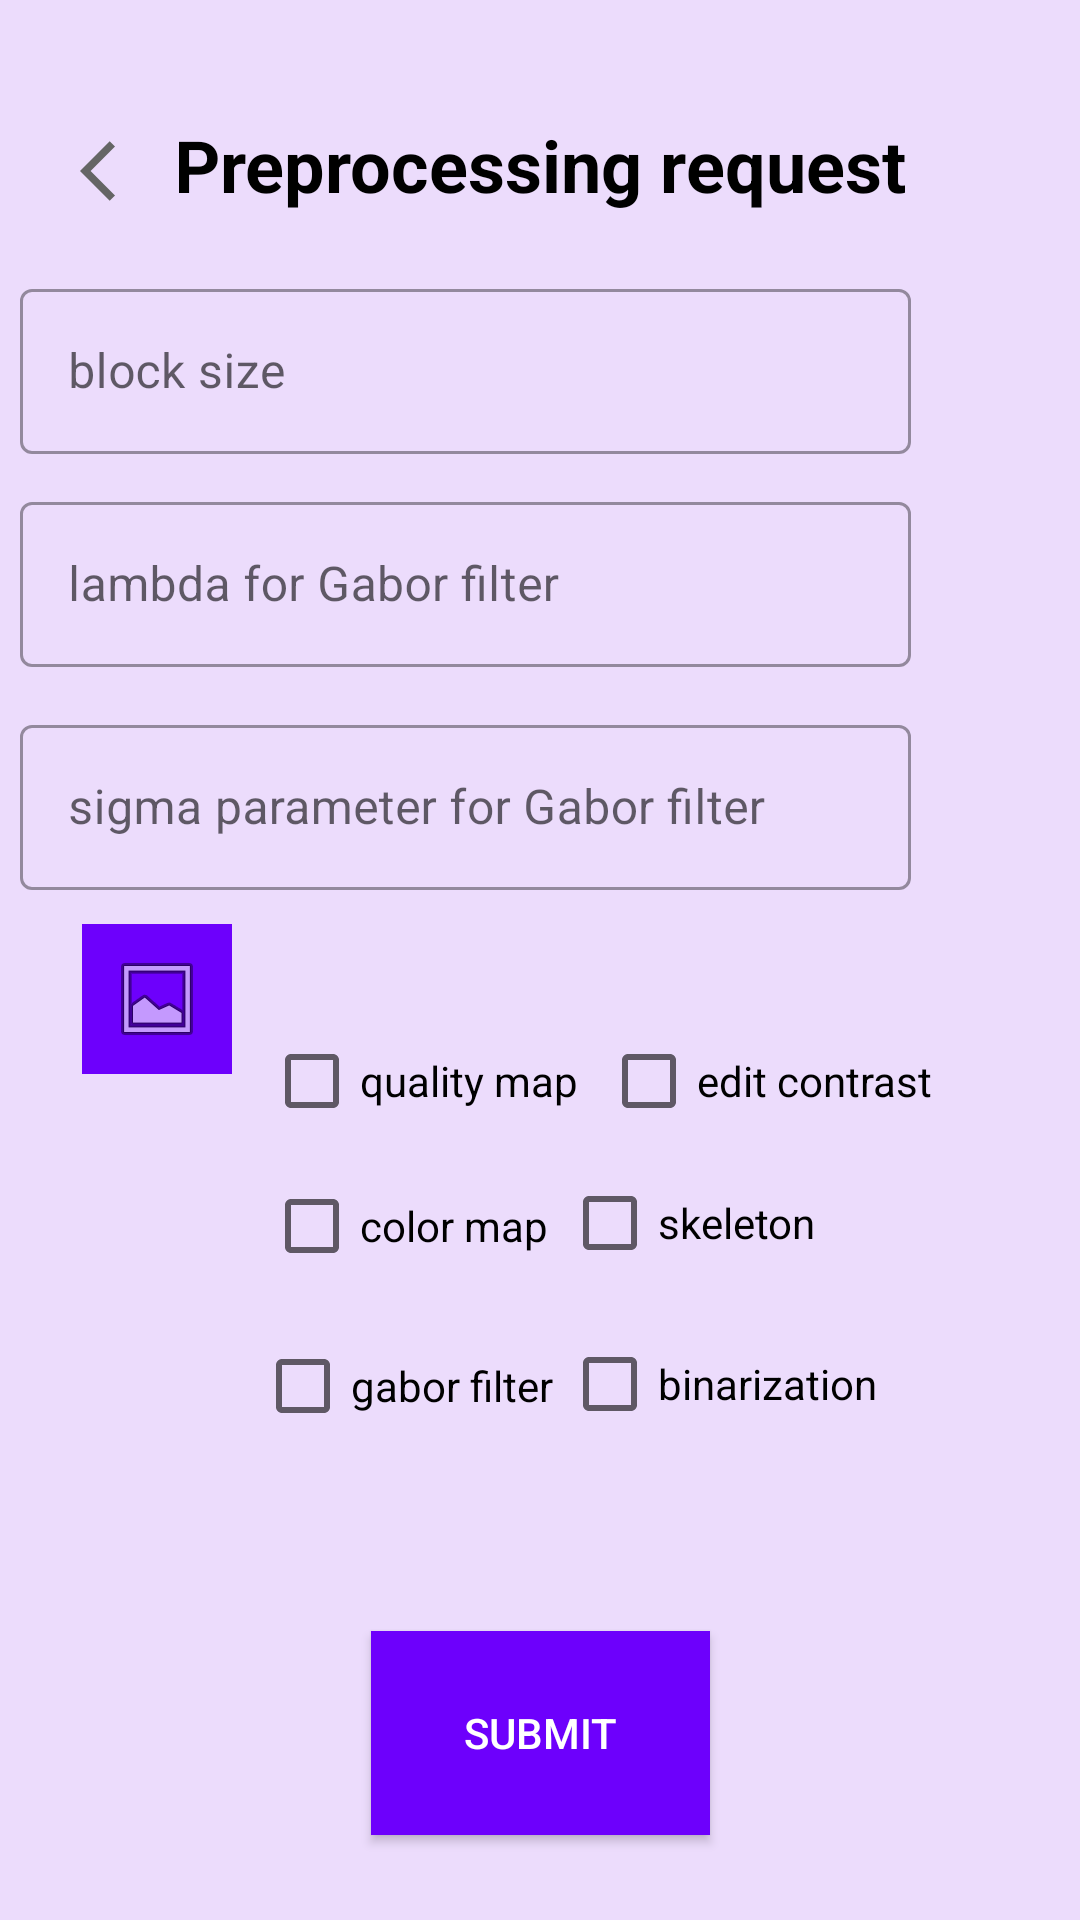

Screen size 1080w x 1920h. Icon name, then its center in pixels as (x,y):
back arrow: (97,171)
opengallery: (157,999)
